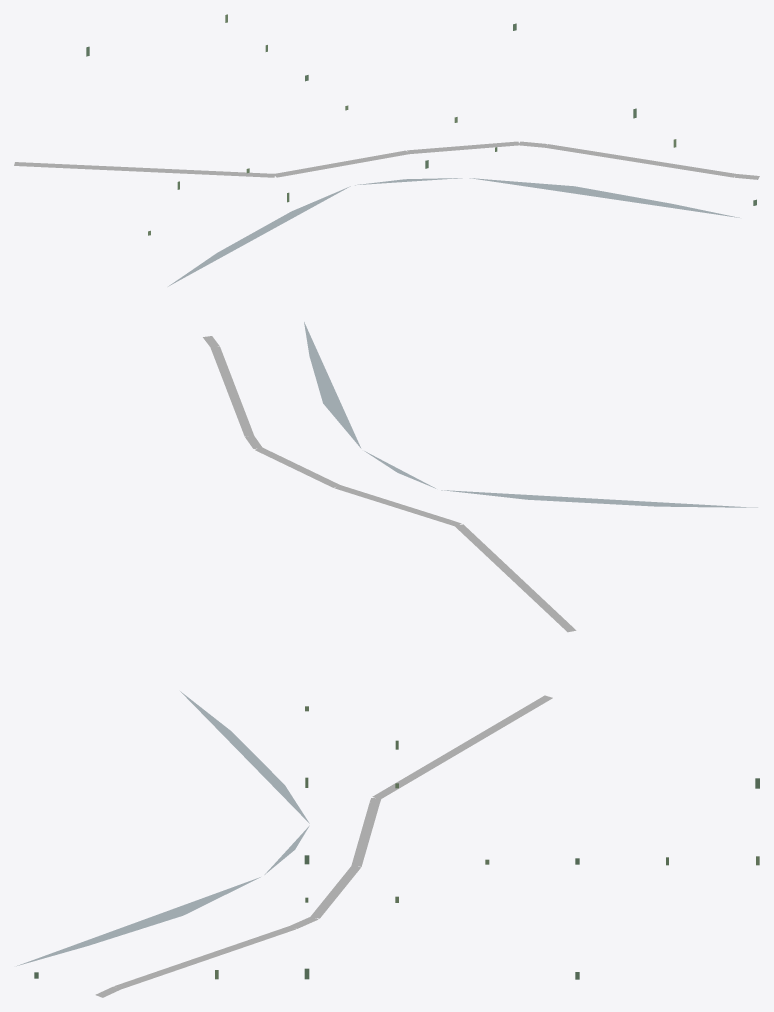
The picture shows the model from 3 angles, top to bottom: view 1: azimuth 30°, elevation 25°; view 2: azimuth 150°, elevation 25°; view 3: azimuth 270°, elevation 25°; orthographic projection. The views are drawn at different scales.
Size of the model in its own units: 485 by 8.61 by 496.
